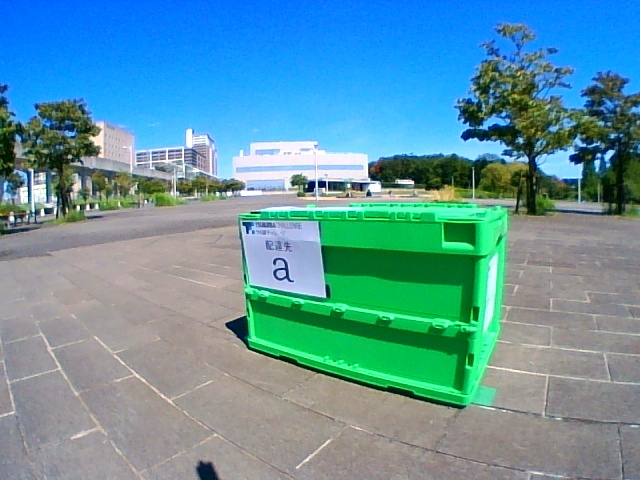green_box: (240, 202, 508, 407)
tag_a: (254, 233, 317, 287)
